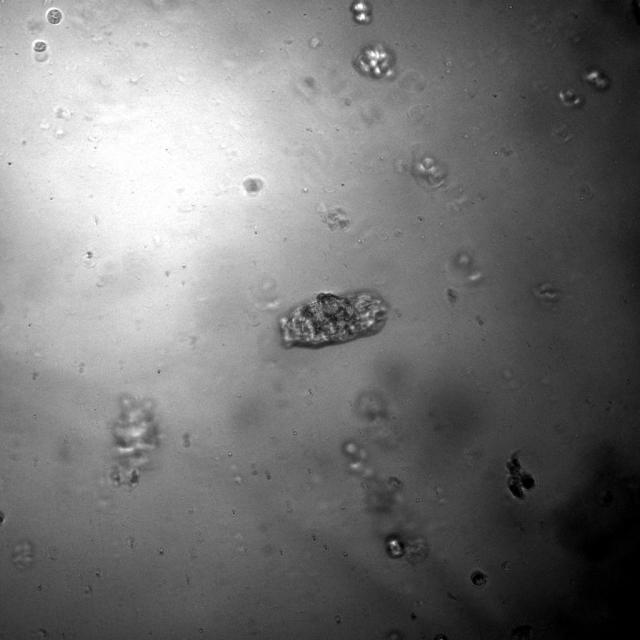organoid: (280, 292, 387, 347), (352, 42, 395, 79), (350, 0, 372, 24), (46, 8, 62, 24), (32, 40, 46, 51)
